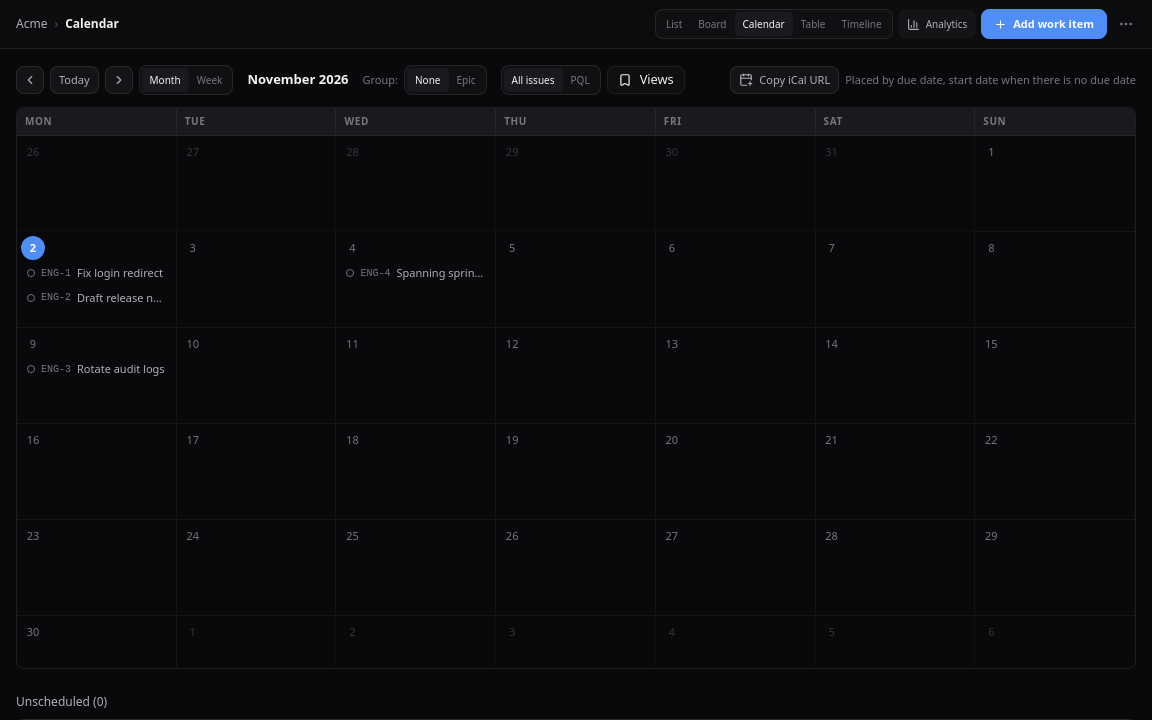
Test case: Calendar week view › stacks issue chips on the right days (due date, else start date)
The image size is (1152, 720).
Expected: the heading "November 2026" is shown, [247, 70, 348, 90]
Click the tab "Week" at (209, 80), box [189, 68, 230, 92]
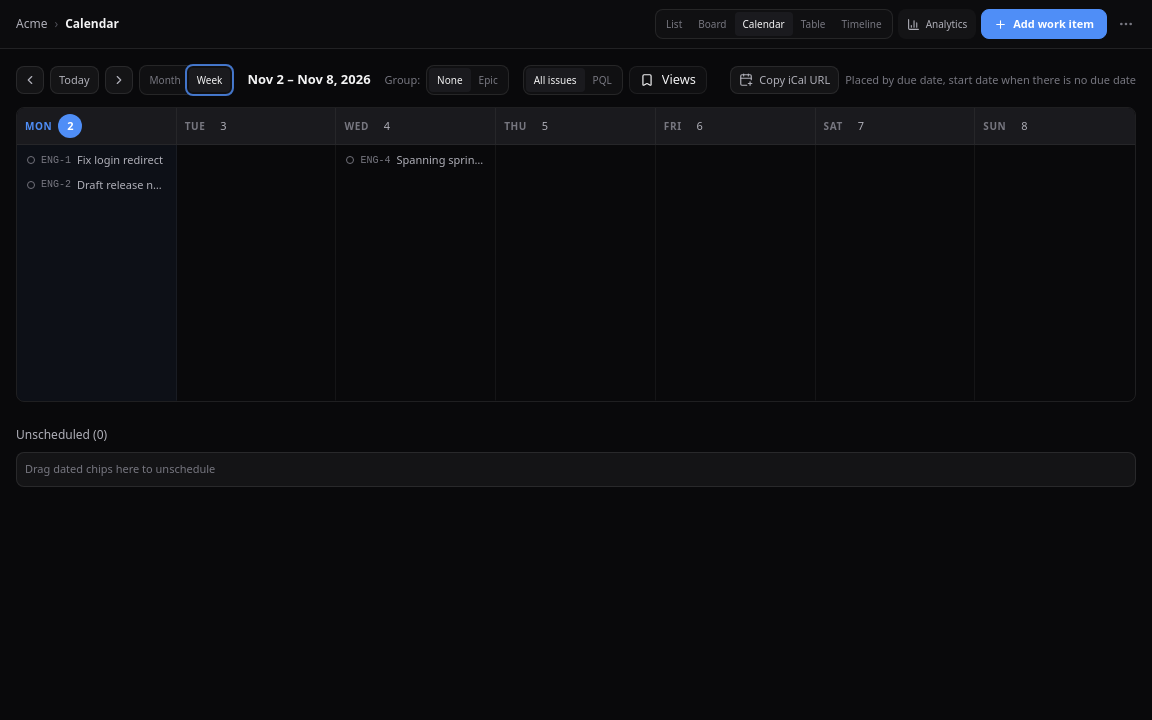
Expected: the text "Fix login redirect" is shown, [77, 152, 163, 168]
Expected: the button "Rotate audit logs" is gone
